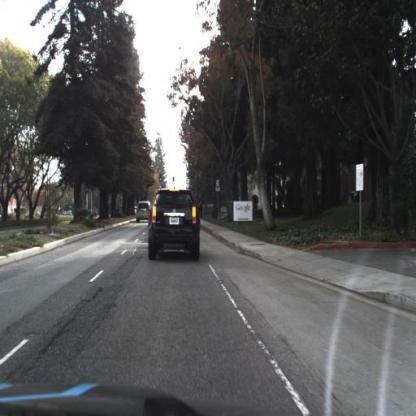car: (147, 187, 202, 262), (134, 199, 155, 226)
trafficLight-Green: (158, 172, 164, 184), (173, 175, 176, 184)
